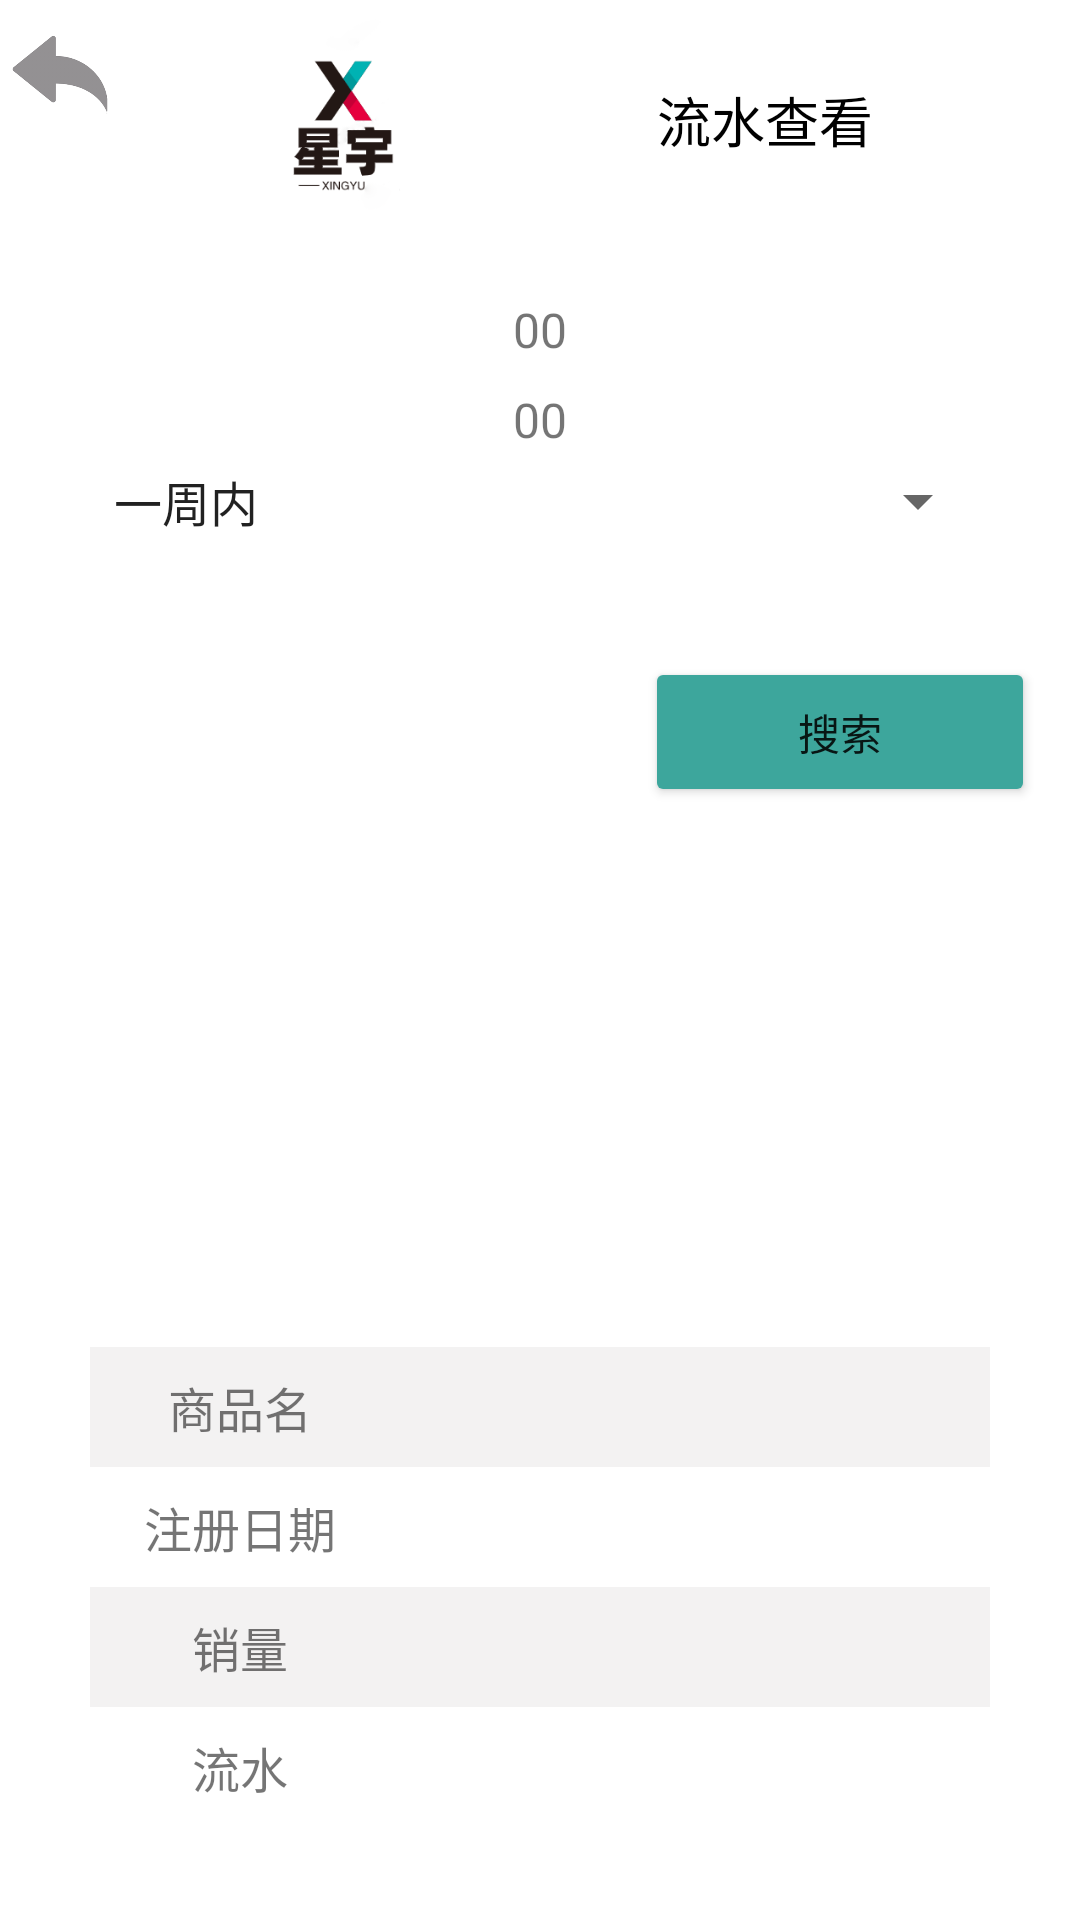

Where to tap for icons on this 1080 x 1920 app screen, as (x,y):
back: (60,74)
